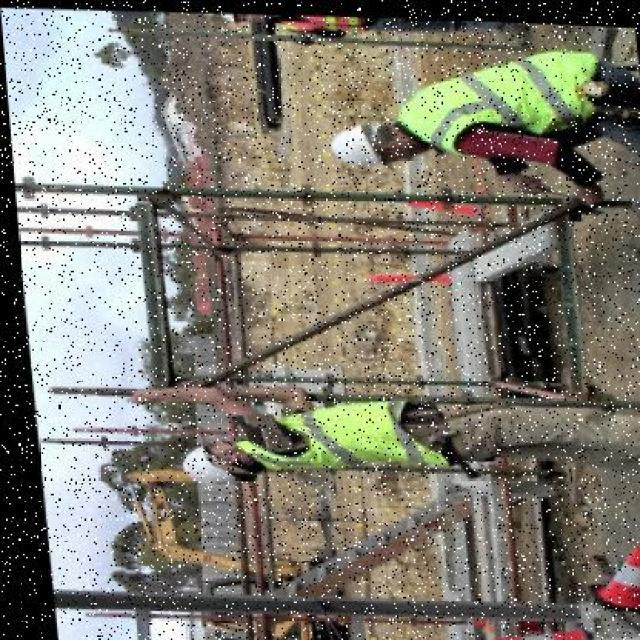helmet: (171, 431, 229, 489), (326, 115, 383, 165)
vest: (391, 37, 611, 159), (232, 391, 426, 476)
